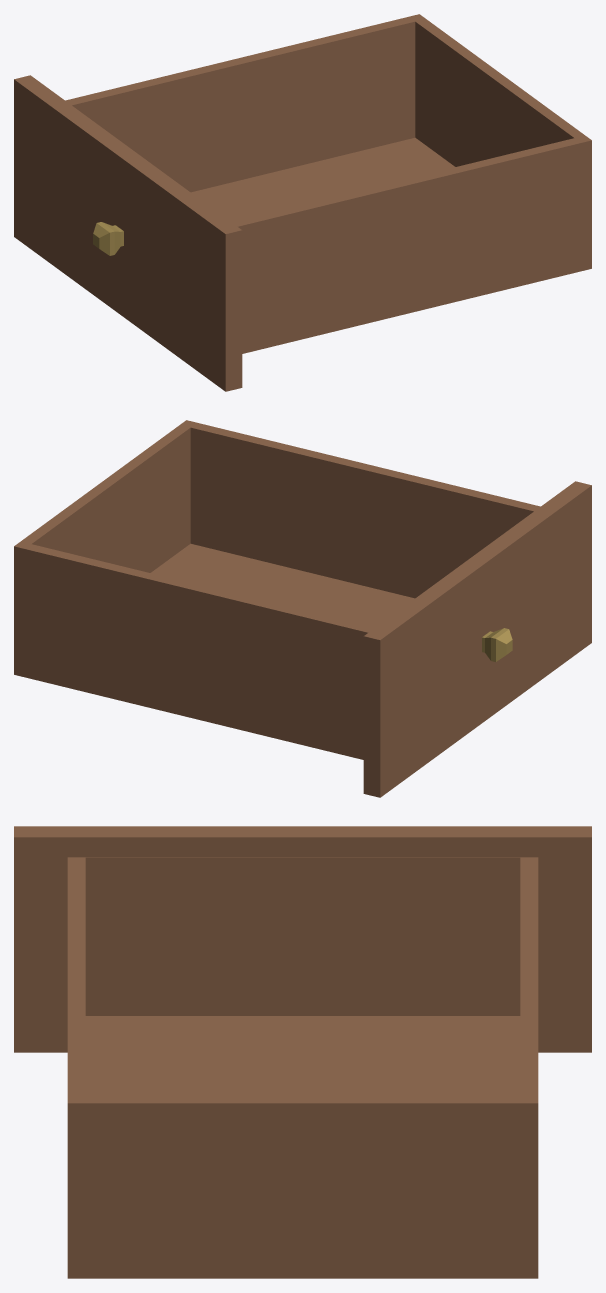
The model's file is BT_top_drawer.fbx.
3 views of the same model, one above another, from view 1: azimuth 30°, elevation 25°; view 2: azimuth 150°, elevation 25°; view 3: azimuth 270°, elevation 25° (orthographic). The views are drawn at different scales.
Parts seen in each view (by area): view 1: BT top drawer; view 2: BT top drawer; view 3: BT top drawer.
Part boxes in pixels (x1,y1,x2,y2): BT top drawer: (14, 14, 591, 391); BT top drawer: (14, 420, 591, 797); BT top drawer: (14, 826, 591, 1278).
Size of the model in its own units: 744 by 274 by 667.
